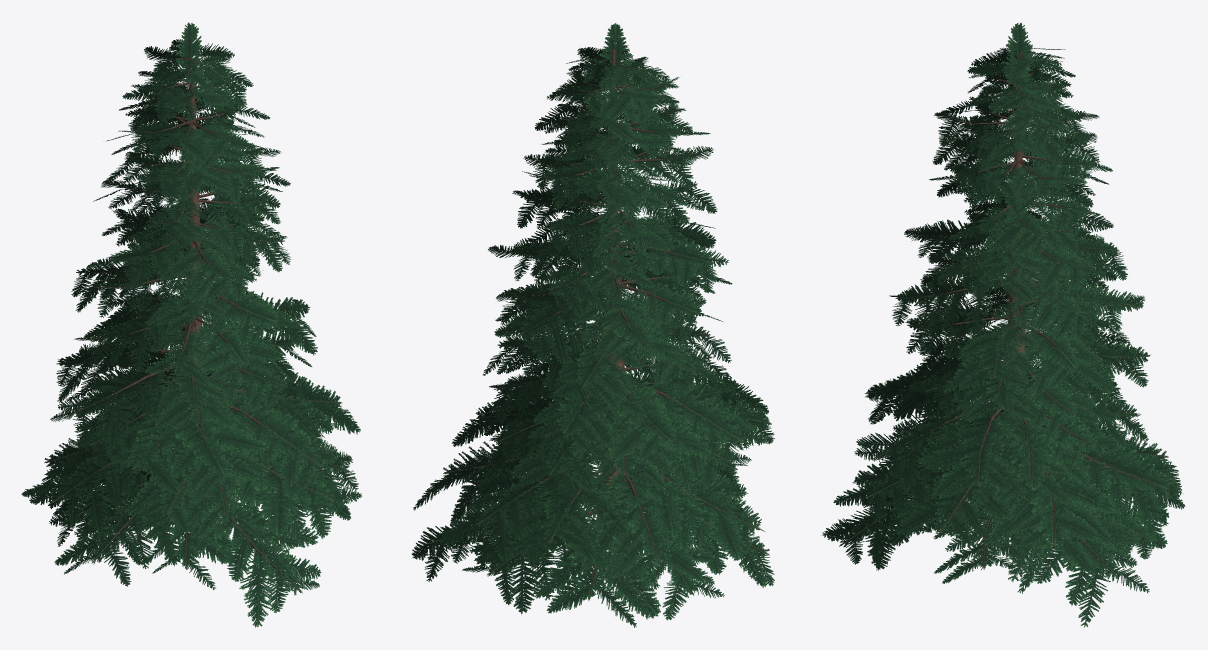
Rendered from spruce_small_01.glb.
3 renders of one model, left to right at view 1: azimuth 30°, elevation 25°; view 2: azimuth 150°, elevation 25°; view 3: azimuth 270°, elevation 25°, orthographic. The views are drawn at different scales.
Parts seen in each view (by area): view 1: spruce_small_01; view 2: spruce_small_01; view 3: spruce_small_01.
Boxes of the visible parts, left/top/right/bottom form: spruce_small_01: left=21, top=22, right=362, bottom=627; spruce_small_01: left=411, top=23, right=774, bottom=627; spruce_small_01: left=821, top=22, right=1185, bottom=627.
Size of the model in its own units: 4.46 by 7.1 by 4.51.
Materials: 3 (3 with a texture image).
